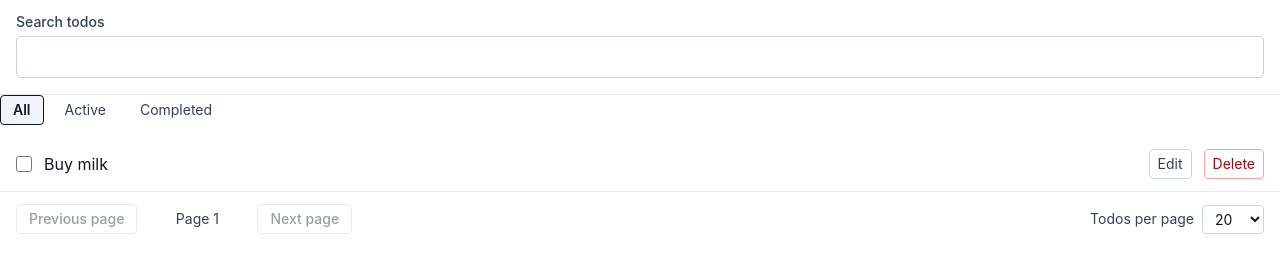
TodoFlows editing: failures › shows a safe message, keeps the draft, and keeps focus in the field for a 503 error
The image size is (1280, 279).
Double-click the text "Buy milk" at (76, 164), box x1=44 y1=154 x2=108 y2=174
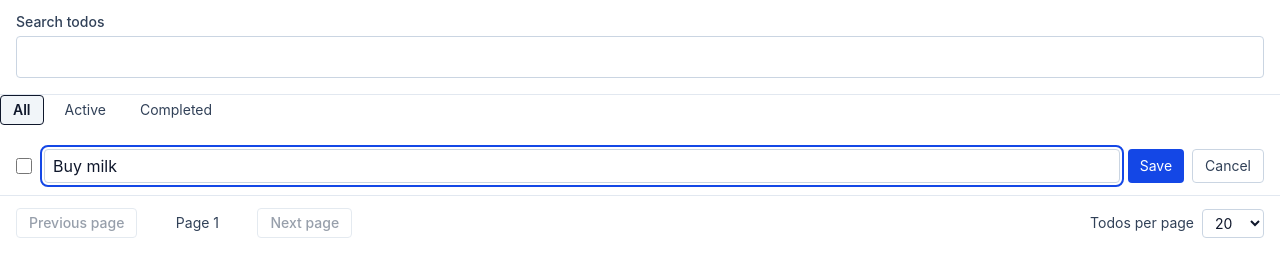
Type "!" into the field named "Edit title of “Buy milk”" at (582, 166), box x1=44 y1=149 x2=1120 y2=183
Then press Enter
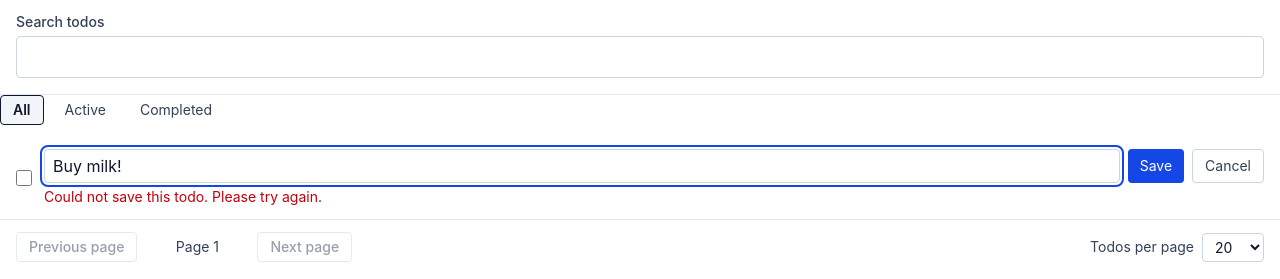
Now the message shows "Could not save this todo", box x1=44 y1=188 x2=322 y2=205
